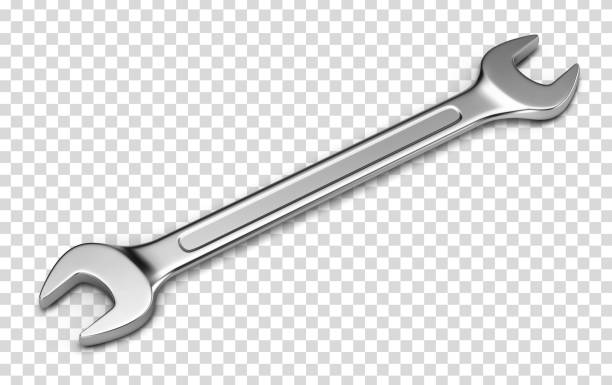Job: (36, 28, 597, 352)
